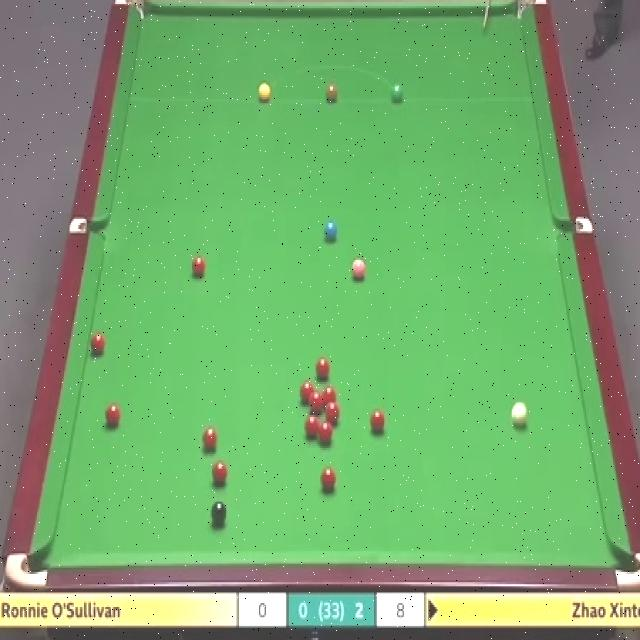black-ball: (211, 500, 229, 524)
blue-ball: (323, 219, 338, 245)
brown-ball: (325, 82, 338, 102)
green-ball: (391, 83, 404, 102)
pink-ball: (351, 260, 367, 283)
red-ball: (88, 332, 108, 358), (102, 400, 120, 427), (320, 466, 338, 493), (298, 378, 316, 404), (212, 460, 229, 485), (314, 357, 332, 380), (201, 426, 219, 449), (369, 410, 386, 434), (304, 414, 320, 438), (324, 412, 341, 434), (308, 392, 325, 414), (322, 387, 337, 410), (191, 258, 206, 276), (318, 402, 332, 420)
white-ball: (510, 401, 527, 427)
yellow-ball: (258, 82, 272, 102)
